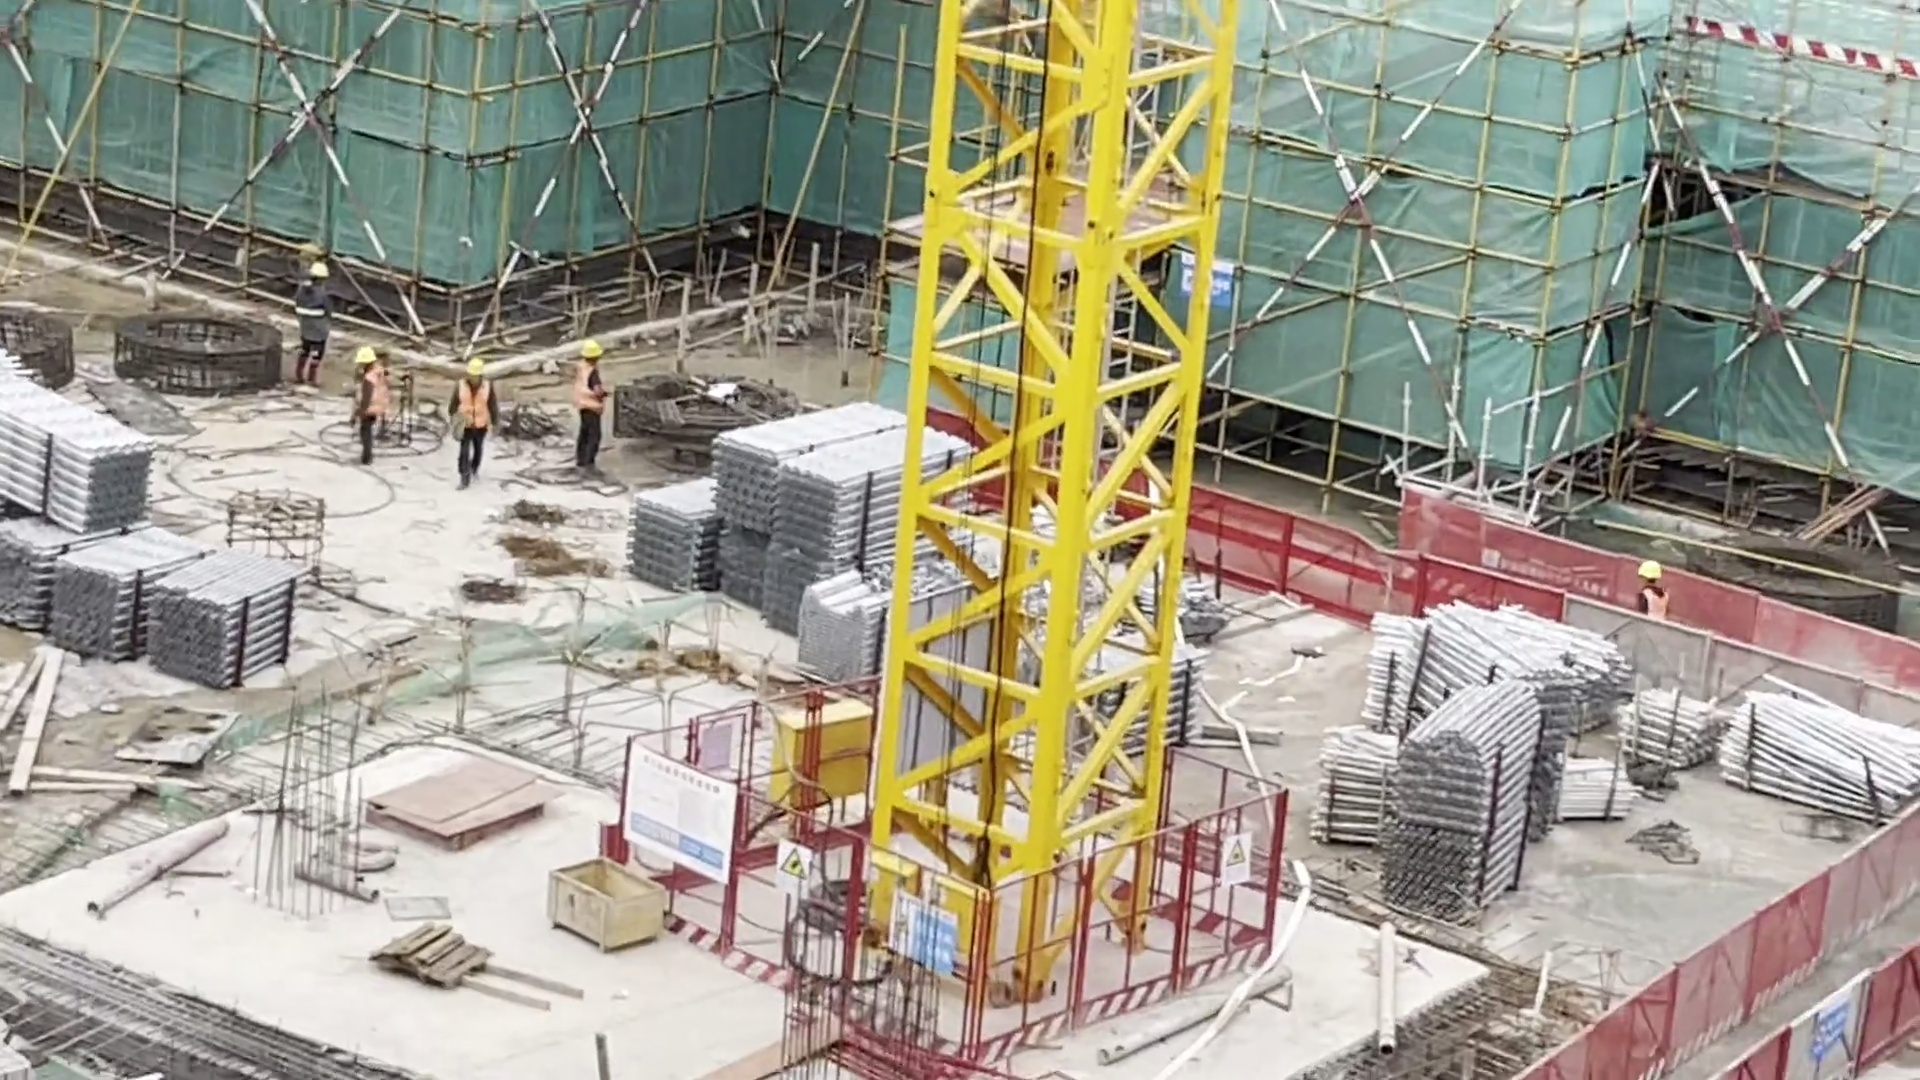board: (369, 756, 556, 845)
fence: (633, 754, 1000, 1058), (992, 801, 1281, 1062), (1200, 485, 1435, 635), (1697, 823, 1863, 1027), (1678, 566, 1920, 699), (1412, 487, 1623, 616), (1493, 953, 1703, 1080), (1752, 942, 1920, 1080), (1847, 816, 1920, 928)
hopper: (548, 856, 666, 945)
person: (447, 354, 498, 496), (343, 345, 392, 468), (292, 256, 331, 383), (575, 339, 605, 472), (1629, 562, 1681, 623)
scaffold: (1, 384, 304, 684), (629, 399, 893, 689), (1365, 600, 1627, 730), (1393, 696, 1540, 920), (1721, 679, 1920, 813)
vest: (452, 380, 490, 434), (356, 371, 388, 417), (579, 367, 604, 413)
